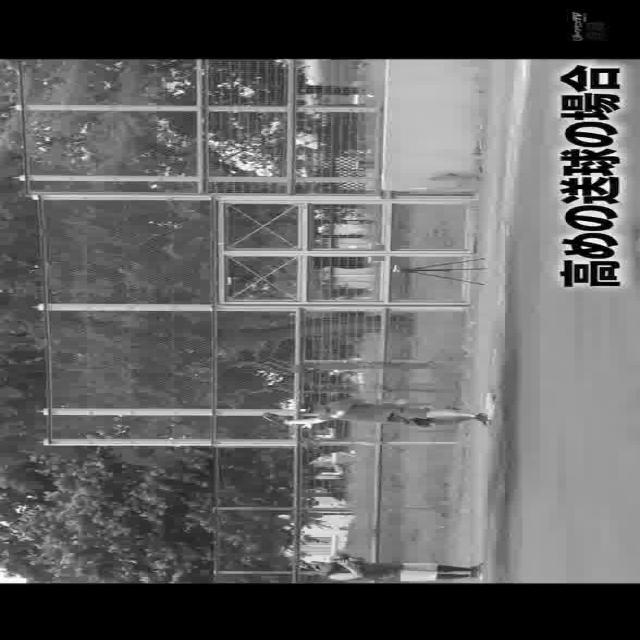base: (486, 391, 498, 419)
baseball_glove: (260, 412, 292, 424)
shoe: (473, 411, 489, 424)
